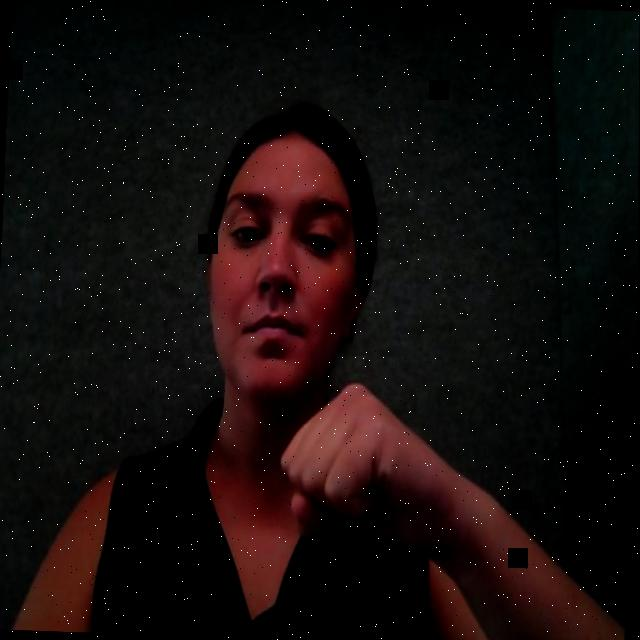Rock: (266, 376, 470, 579)
